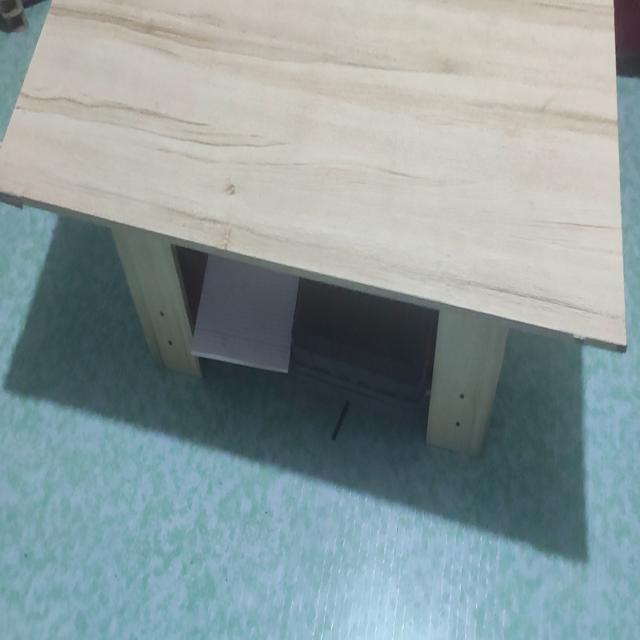table: (0, 0, 628, 465)
